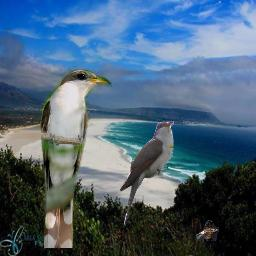Cuckoo: (39, 68, 112, 248), (119, 121, 174, 227)
Swallow: (196, 220, 219, 241)
